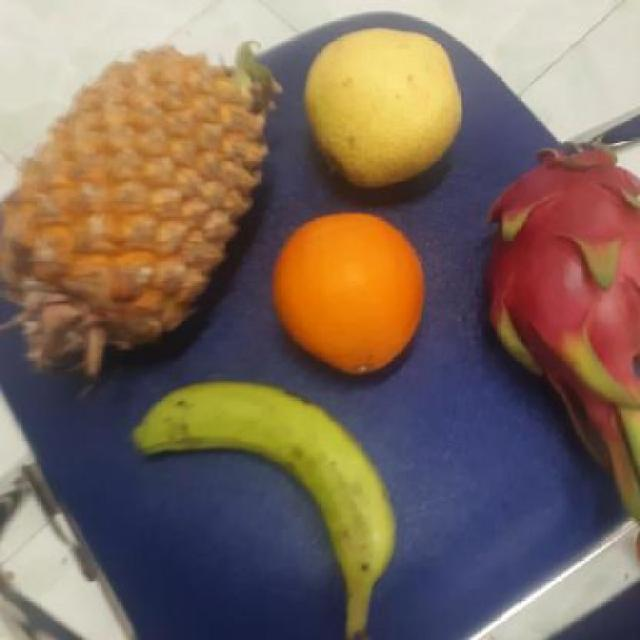banana: (144, 382, 398, 600)
dragon fruit: (486, 148, 640, 402)
oren: (273, 210, 429, 376)
pear: (303, 23, 468, 185)
pineapple: (1, 56, 268, 347)
